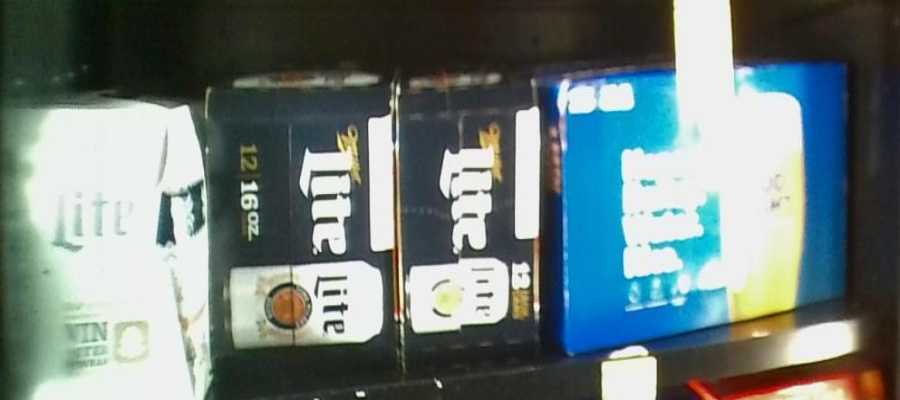bottle: (545, 59, 851, 327), (1, 97, 208, 398), (205, 78, 397, 393), (395, 65, 539, 356)
